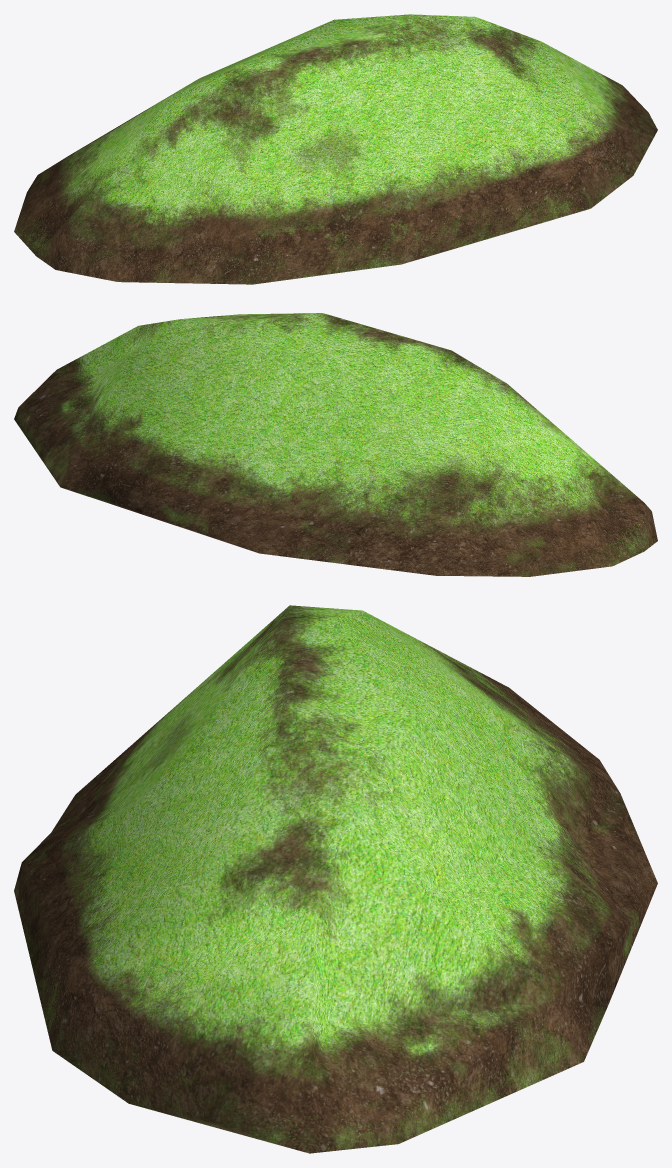
The model's file is ENV2910002.fbx.
3 renders of one model, top to bottom at view 1: azimuth 30°, elevation 25°; view 2: azimuth 150°, elevation 25°; view 3: azimuth 270°, elevation 25°, orthographic. The views are drawn at different scales.
Parts seen in each view (by area): view 1: smENV2910002; view 2: smENV2910002; view 3: smENV2910002.
Boxes of the visible parts, <box> form: smENV2910002: <box>14,14,657,284</box>; smENV2910002: <box>14,313,657,576</box>; smENV2910002: <box>14,605,657,1153</box>.
Size of the model in its own units: 169 by 39.81 by 97.88.
Materials: 1 (1 with a texture image).
